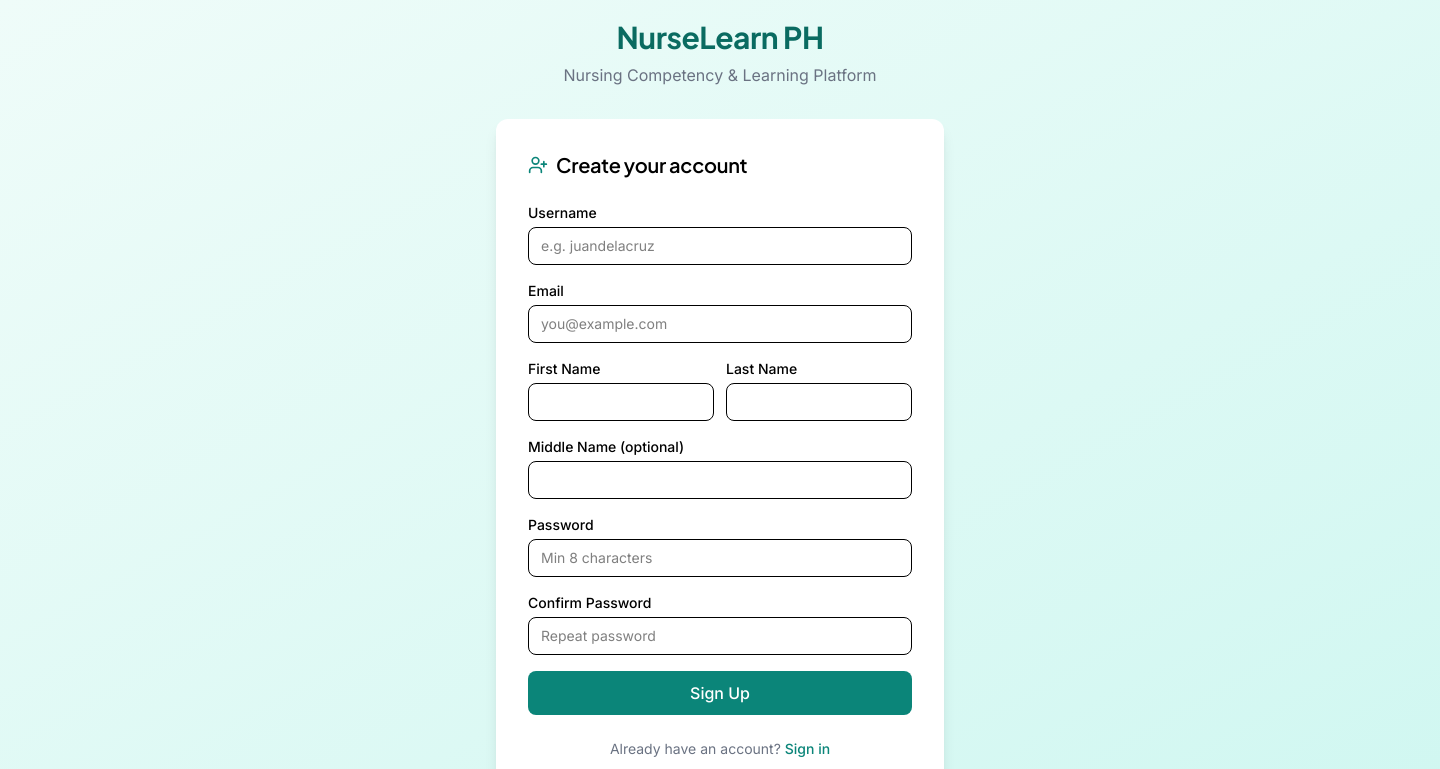
Test: SignupPage › blocks submission until required fields are valid
Expected: the heading "Create your account" is shown, [556, 151, 747, 179]
Click the button "Sign Up" at [720, 693], box [528, 671, 912, 715]
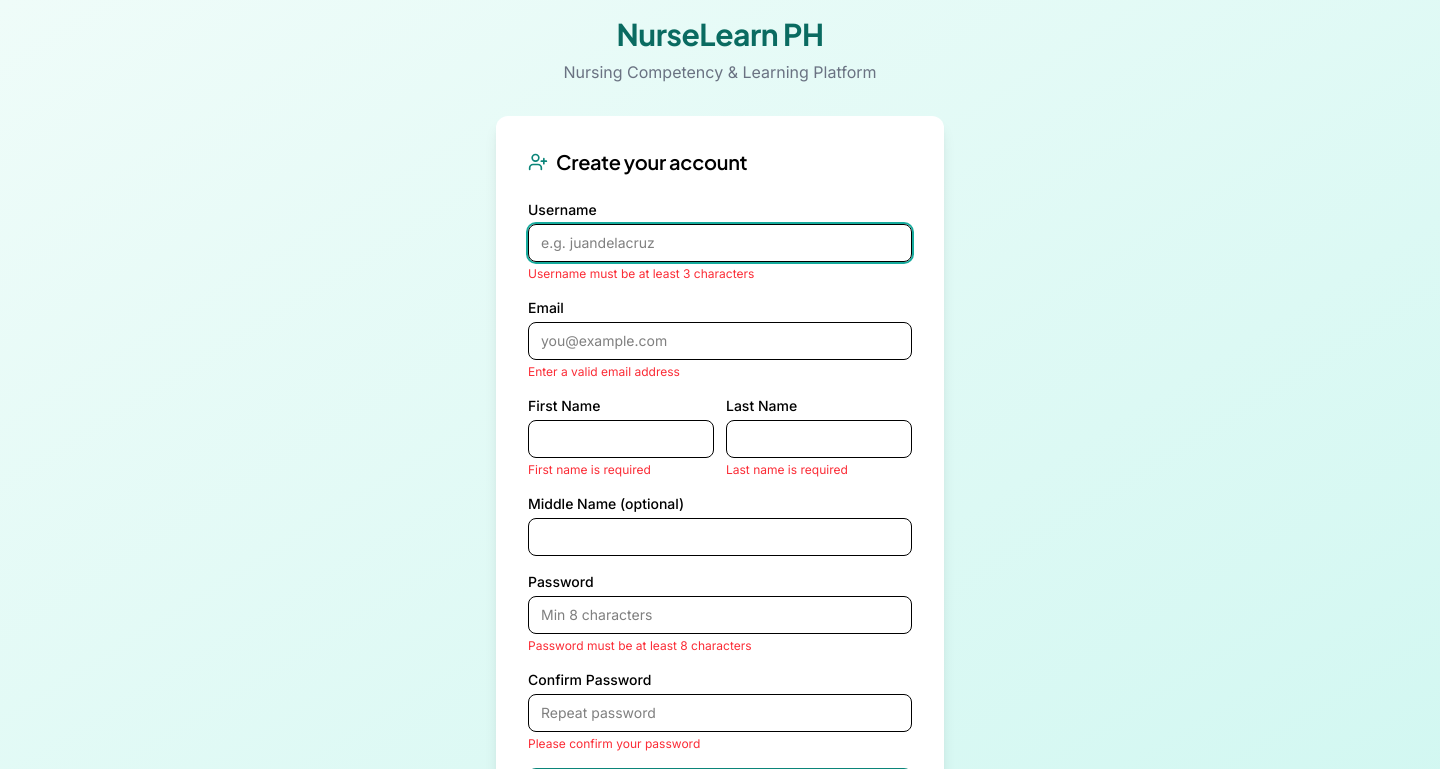
Result: the text "Username must be at least 3 characters" is shown at [528, 266, 754, 281]
